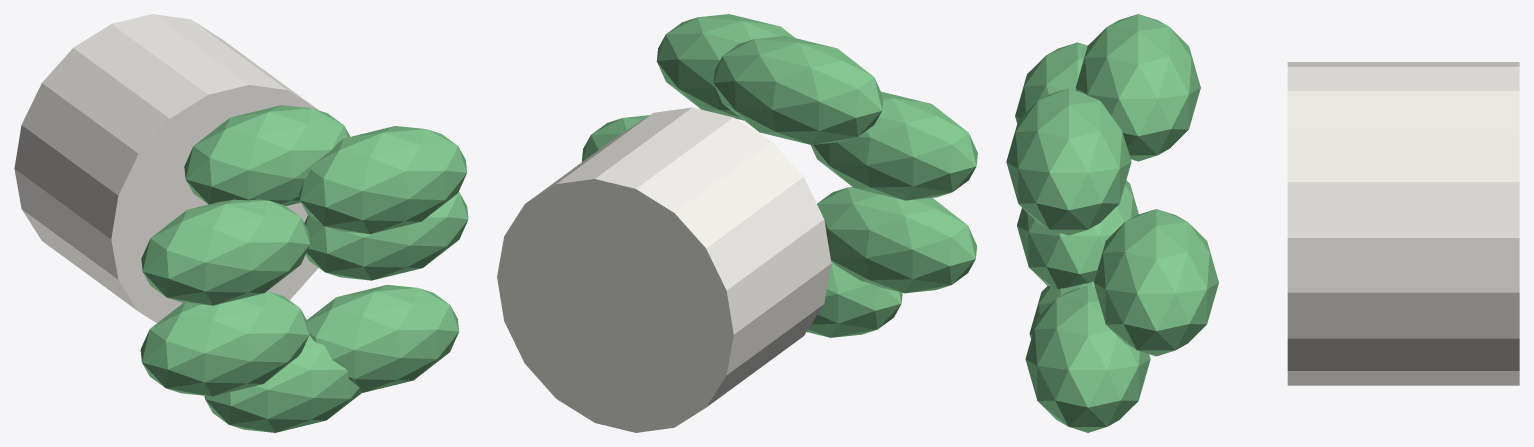
Rendered from PLANT_SMALL_DESK_001.glb.
3 views of the same model, side by side, from view 1: azimuth 30°, elevation 25°; view 2: azimuth 150°, elevation 25°; view 3: azimuth 270°, elevation 25° (orthographic). The views are drawn at different scales.
Parts seen in each view (by area): view 1: small_pot_000, leaf_cluster_004, leaf_cluster_002, leaf_cluster_005, leaf_cluster_003, leaf_cluster_007, leaf_cluster_006, leaf_cluster_001; view 2: small_pot_000, leaf_cluster_003, leaf_cluster_005, leaf_cluster_004, leaf_cluster_002, leaf_cluster_006, leaf_cluster_001; view 3: small_pot_000, leaf_cluster_001, leaf_cluster_002, leaf_cluster_003, leaf_cluster_007, leaf_cluster_005, leaf_cluster_004, leaf_cluster_006.
Part boxes in pixels (x1=…): small_pot_000: x1=14, y1=14, x2=318, y2=322; leaf_cluster_004: x1=141, y1=199, x2=309, y2=305; leaf_cluster_002: x1=299, y1=126, x2=466, y2=234; leaf_cluster_005: x1=140, y1=291, x2=309, y2=396; leaf_cluster_003: x1=184, y1=105, x2=350, y2=205; leaf_cluster_007: x1=307, y1=284, x2=459, y2=392; leaf_cluster_006: x1=204, y1=335, x2=361, y2=432; leaf_cluster_001: x1=304, y1=192, x2=468, y2=280; small_pot_000: x1=497, y1=107, x2=831, y2=432; leaf_cluster_003: x1=713, y1=36, x2=883, y2=144; leaf_cluster_005: x1=817, y1=187, x2=976, y2=293; leaf_cluster_004: x1=811, y1=91, x2=977, y2=200; leaf_cluster_002: x1=656, y1=14, x2=794, y2=120; leaf_cluster_006: x1=806, y1=261, x2=902, y2=337; leaf_cluster_001: x1=581, y1=115, x2=649, y2=161; small_pot_000: x1=1287, y1=62, x2=1519, y2=385; leaf_cluster_001: x1=1094, y1=209, x2=1218, y2=356; leaf_cluster_002: x1=1006, y1=88, x2=1131, y2=235; leaf_cluster_003: x1=1075, y1=14, x2=1200, y2=161; leaf_cluster_007: x1=1025, y1=285, x2=1150, y2=432; leaf_cluster_005: x1=1017, y1=180, x2=1138, y2=289; leaf_cluster_004: x1=1015, y1=42, x2=1087, y2=123; leaf_cluster_006: x1=1029, y1=281, x2=1094, y2=338.
Size of the model in its own units: 0.2131 by 0.171 by 0.2213.
